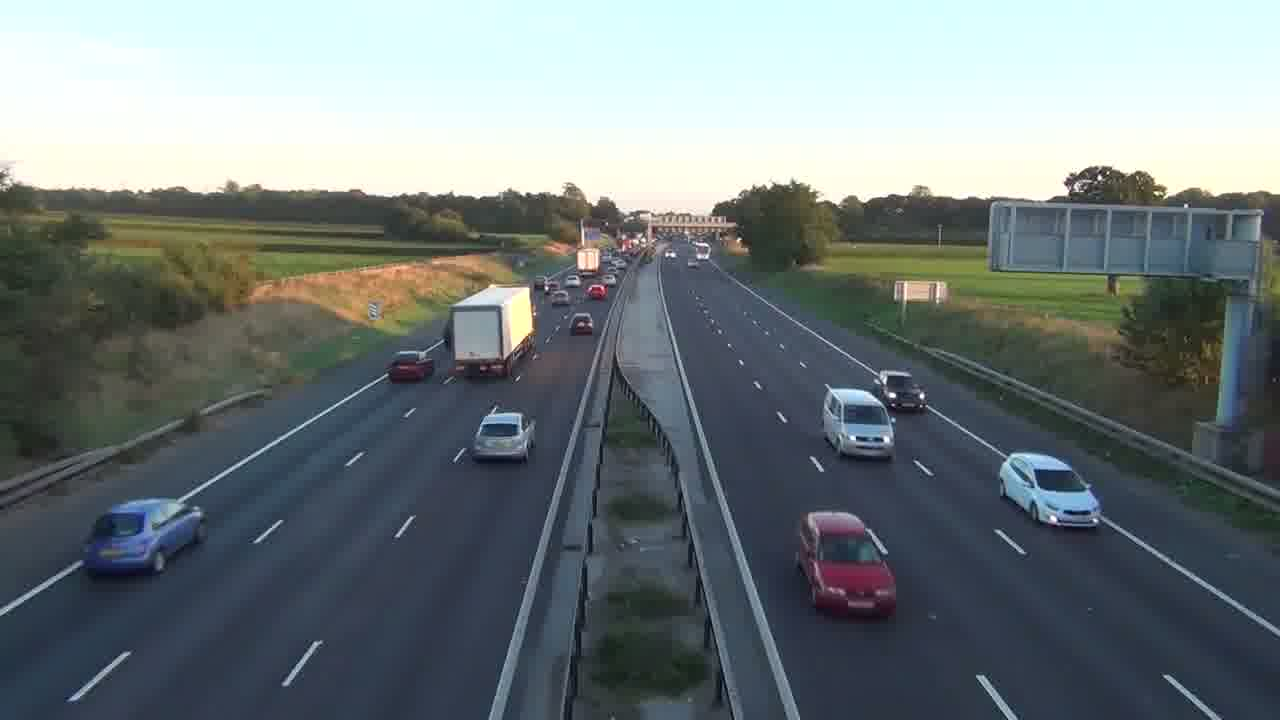car: (795, 509, 897, 619), (81, 497, 208, 578), (998, 450, 1104, 530), (822, 385, 896, 461), (472, 410, 538, 463), (875, 369, 927, 414), (385, 349, 435, 383), (571, 312, 593, 336)
truck: (450, 284, 536, 380)
